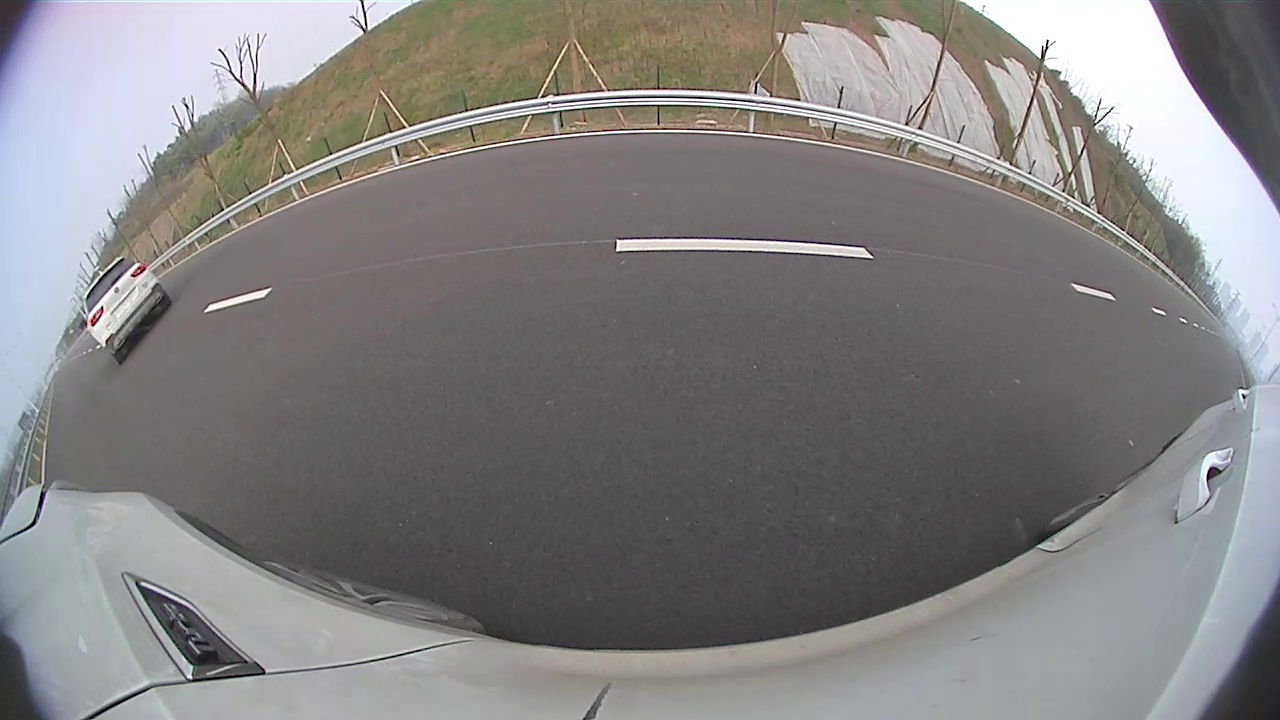car: (523, 123, 643, 218)
rear: (625, 175, 634, 212)
